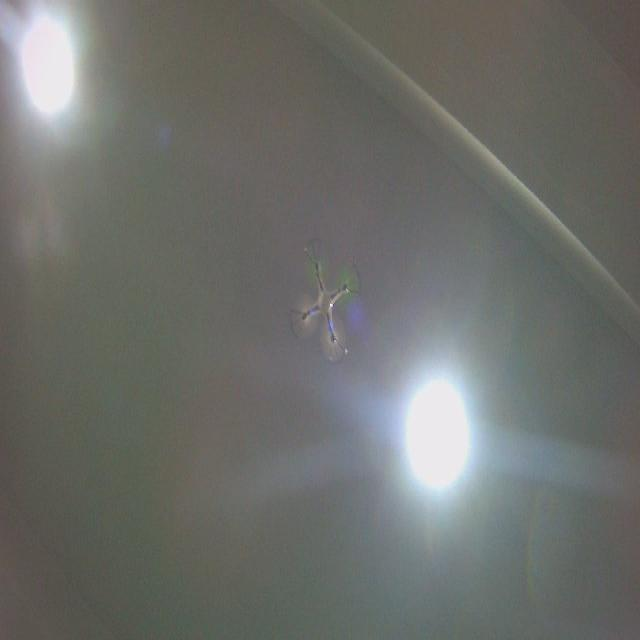drone: (286, 234, 365, 369)
